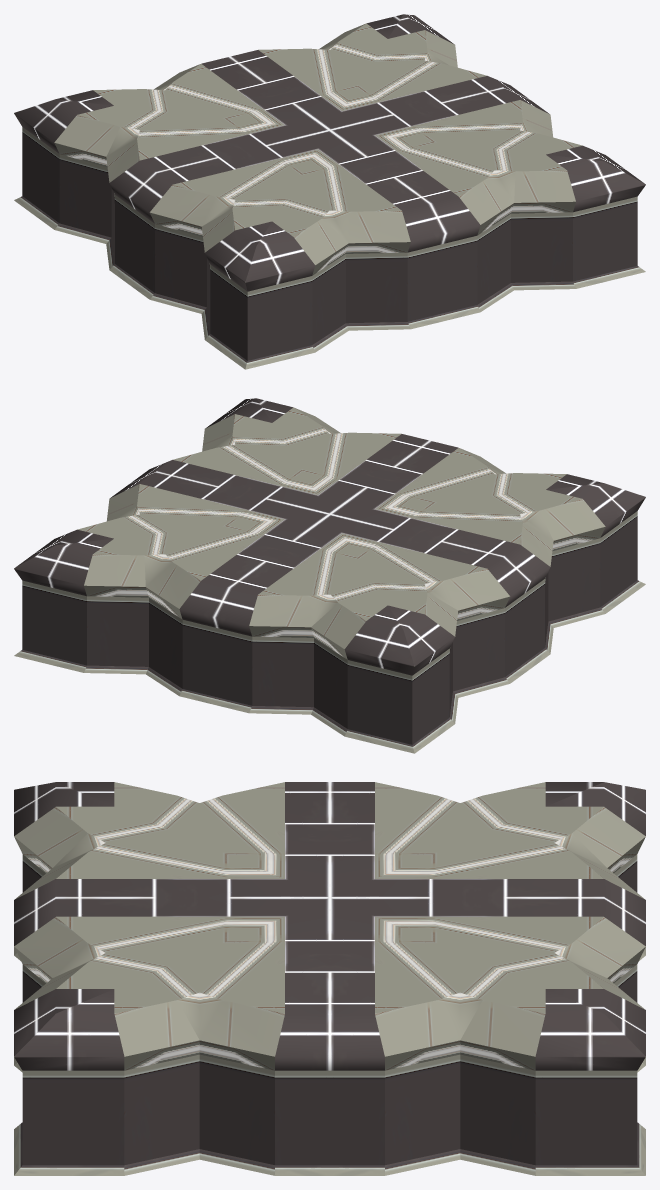
Rendered from KF_SM_XBuilding008.fbx.
The picture shows the model from 3 angles, top to bottom: view 1: azimuth 30°, elevation 25°; view 2: azimuth 150°, elevation 25°; view 3: azimuth 270°, elevation 25°; orthographic projection. The views are drawn at different scales.
Parts seen in each view (by area): view 1: KF_SM_XBuilding008; view 2: KF_SM_XBuilding008; view 3: KF_SM_XBuilding008.
Part boxes in pixels (box(x1,y1,x2,y2)): KF_SM_XBuilding008: box(14, 14, 645, 369); KF_SM_XBuilding008: box(14, 398, 645, 753); KF_SM_XBuilding008: box(14, 782, 645, 1175).
Size of the model in its own units: 7079 by 1786 by 7079.
